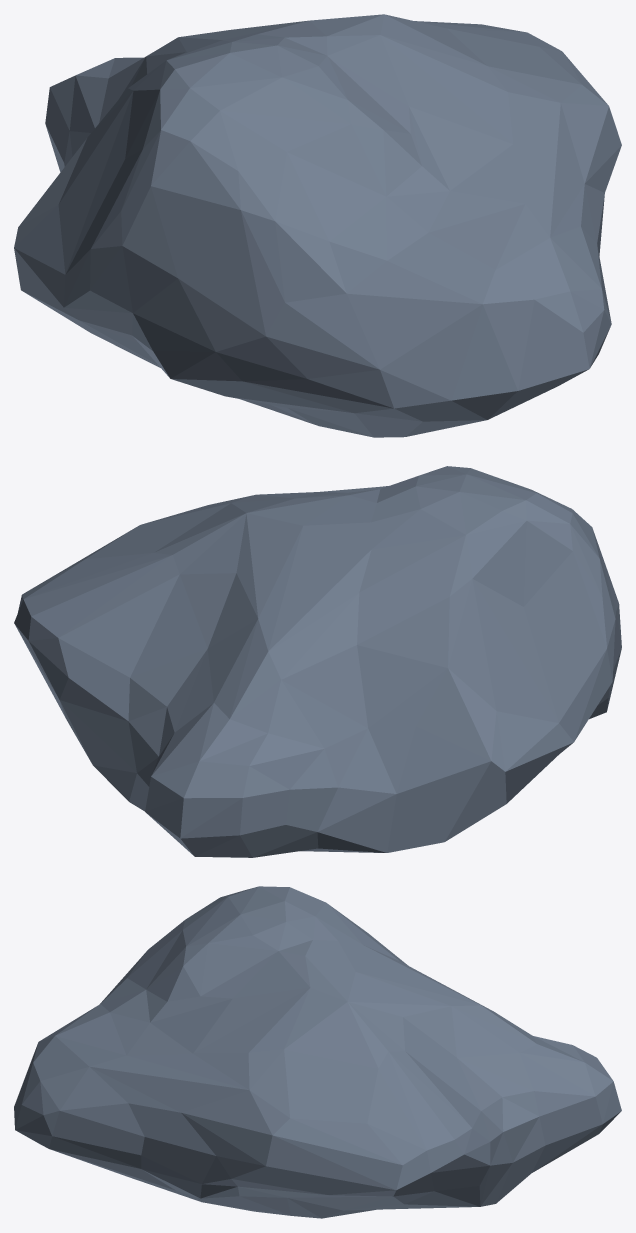
File: stone0.obj
The picture shows the model from 3 angles, top to bottom: view 1: azimuth 30°, elevation 25°; view 2: azimuth 150°, elevation 25°; view 3: azimuth 270°, elevation 25°; orthographic projection. The views are drawn at different scales.
Visible parts, largest first — view 1: Sphere; view 2: Sphere; view 3: Sphere.
Boxes of the visible parts, x1,y1,x2,y2 form: Sphere: (14, 14, 621, 437); Sphere: (14, 466, 621, 857); Sphere: (14, 886, 621, 1218).
Size of the model in its own units: 2.49 by 1.53 by 3.07.
